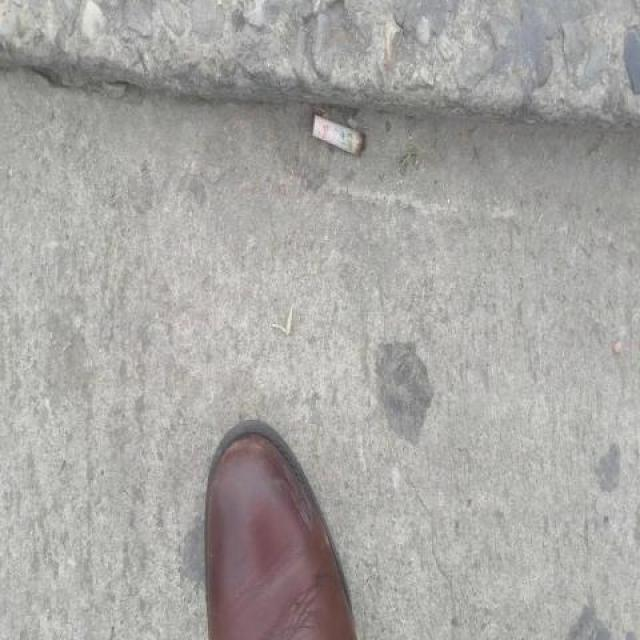non-organic waste: (304, 108, 376, 165)
